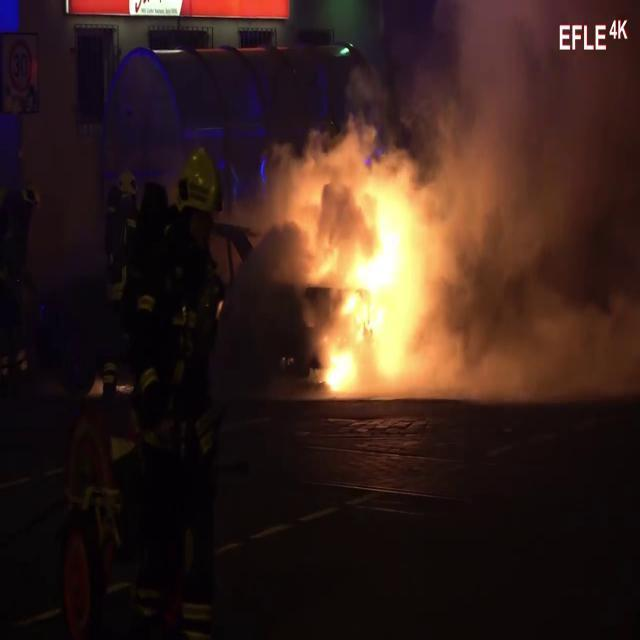Fire: (314, 172, 438, 394)
Smoke: (403, 0, 640, 397)
